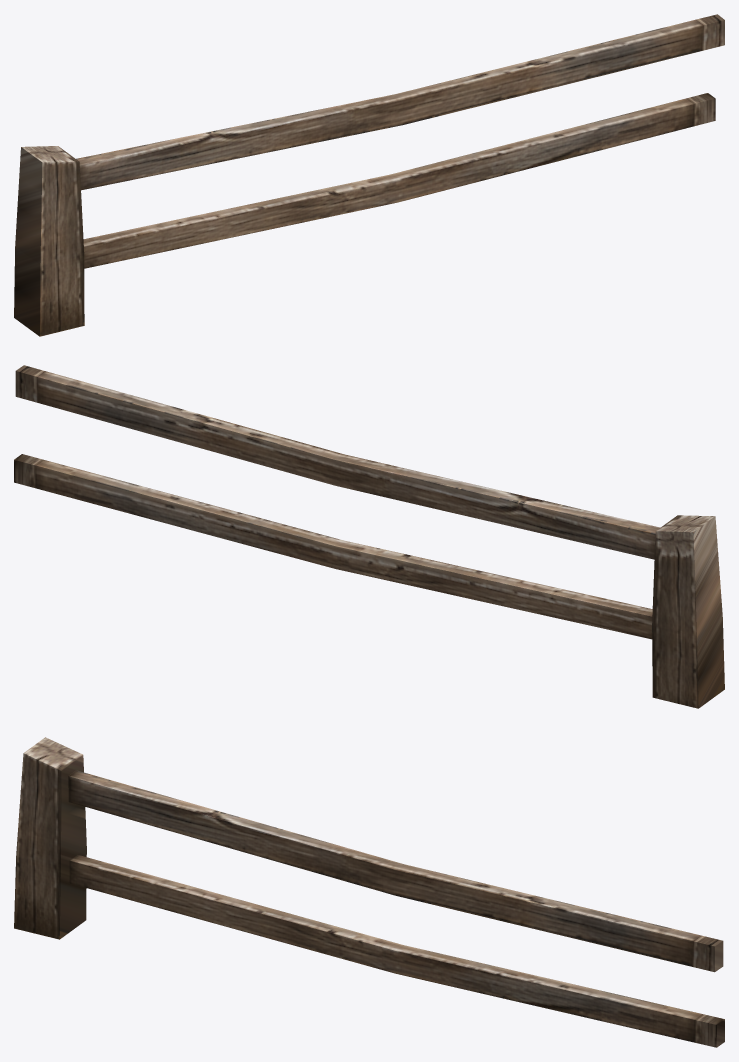
The model's file is start_fence_14.glb.
The picture shows the model from 3 angles, top to bottom: view 1: azimuth 30°, elevation 25°; view 2: azimuth 150°, elevation 25°; view 3: azimuth 330°, elevation 25°; orthographic projection. The views are drawn at different scales.
Parts seen in each view (by area): view 1: start_fence_14_game; view 2: start_fence_14_game; view 3: start_fence_14_game.
Boxes of the visible parts, x1,y1,x2,y2 form: start_fence_14_game: (14,14,724,336); start_fence_14_game: (14,365,724,708); start_fence_14_game: (14,737,724,1047).
Bounding box in the file's own units: 4.83 × 1.15 × 0.3191.
Materials: 1 (1 with a texture image).
